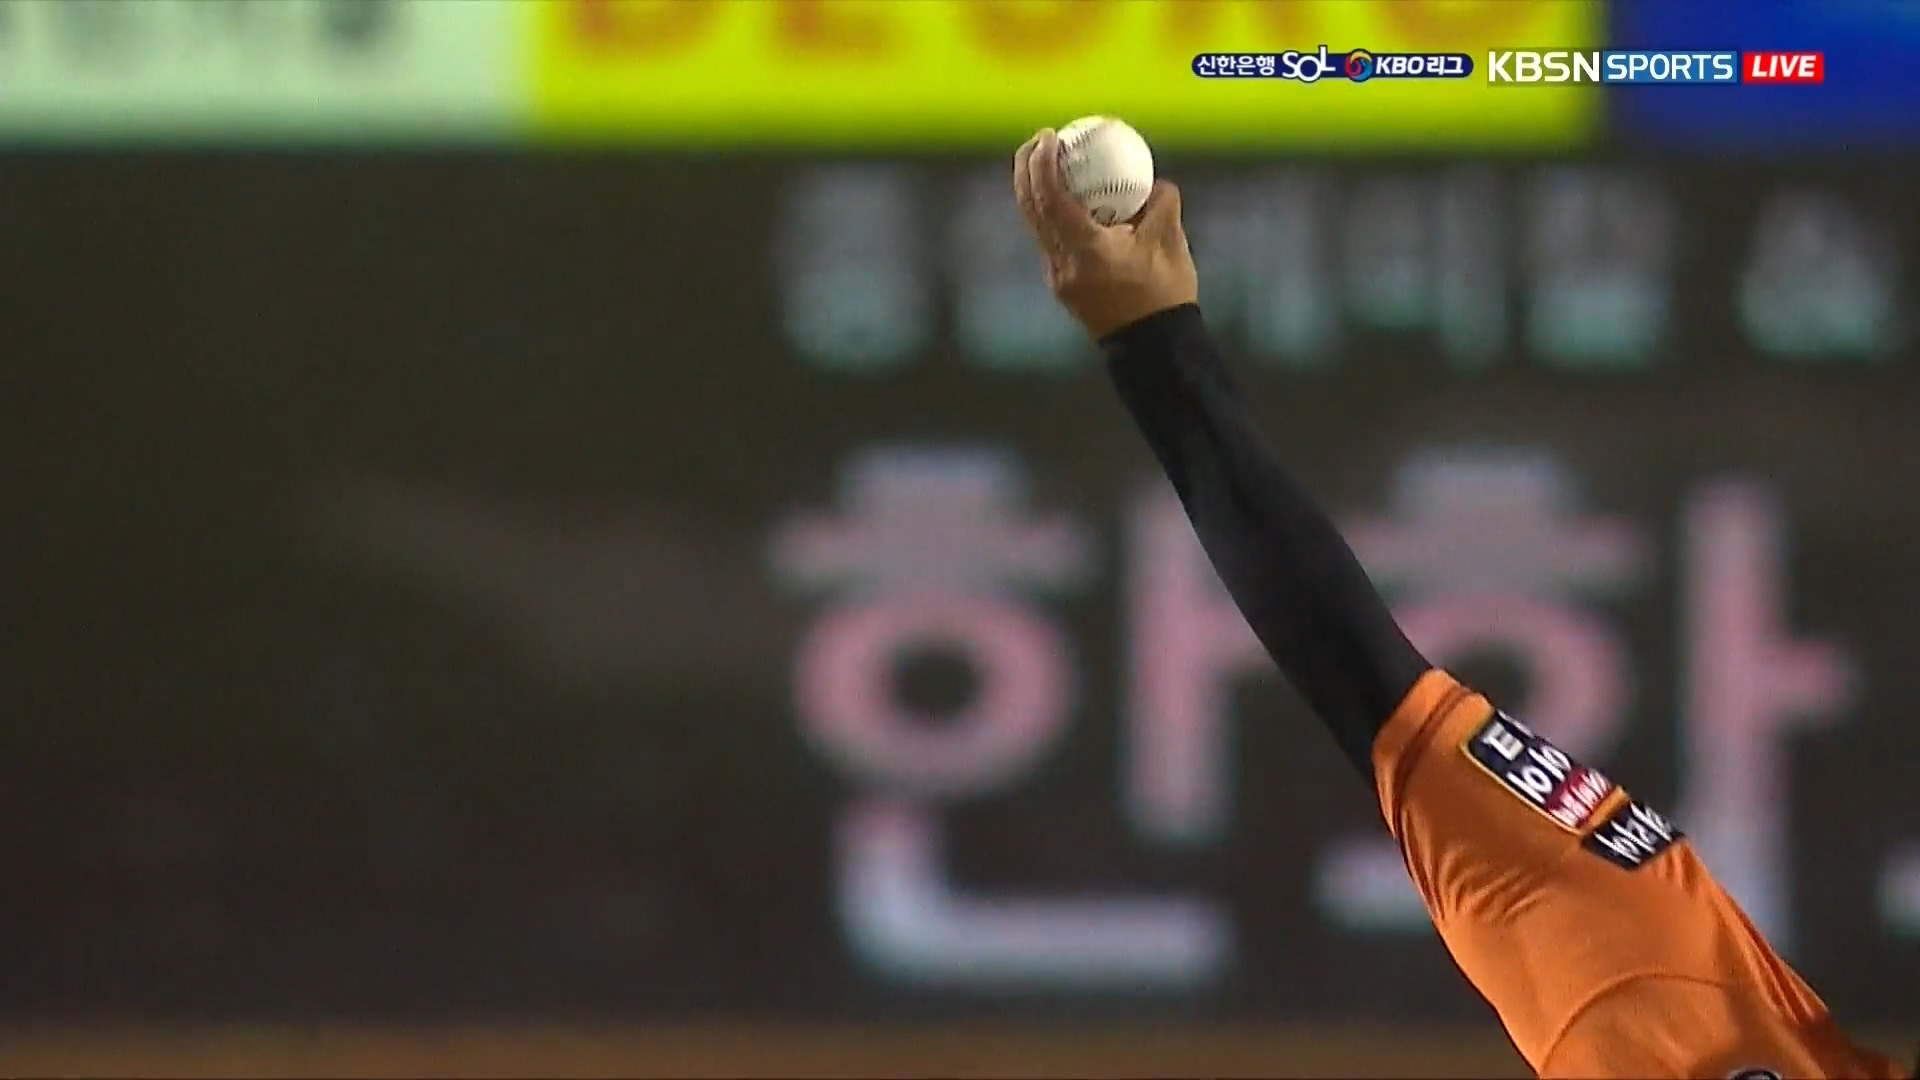zoomin_hand: (1006, 92, 1433, 746)
